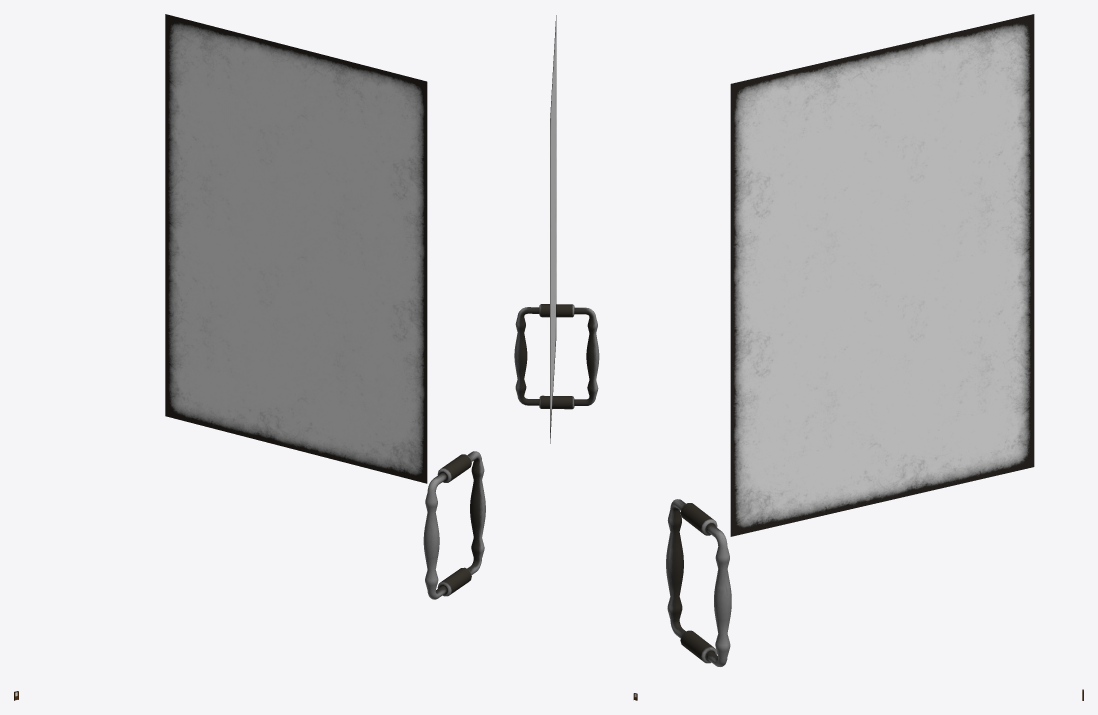
Rendered from door1.glb.
The picture shows the model from 3 angles, left to right: view 1: azimuth 30°, elevation 25°; view 2: azimuth 150°, elevation 25°; view 3: azimuth 270°, elevation 25°; orthographic projection. The views are drawn at different scales.
Visible parts, largest first — view 1: glass_2, Sweep_2; view 2: Sweep_2, glass_2; view 3: glass_2, Sweep_2.
Part boxes in pixels (<box>): glass_2: <box>165,14,427,483</box>; Sweep_2: <box>423,451,485,599</box>; Sweep_2: <box>514,304,599,409</box>; glass_2: <box>550,15,556,443</box>; glass_2: <box>730,14,1034,536</box>; Sweep_2: <box>666,499,731,666</box>.
Bounding box in the file's own units: 869 × 1796 × 900.
2 materials, 2 textured.
